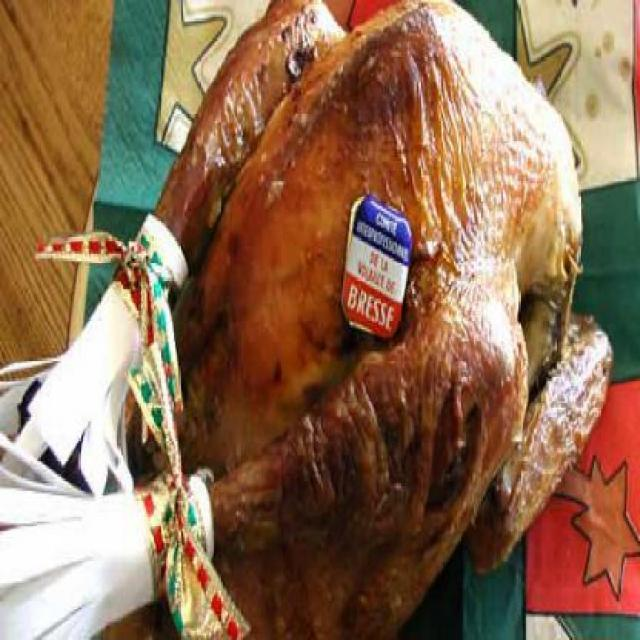Chicken roast: (90, 4, 608, 638)
